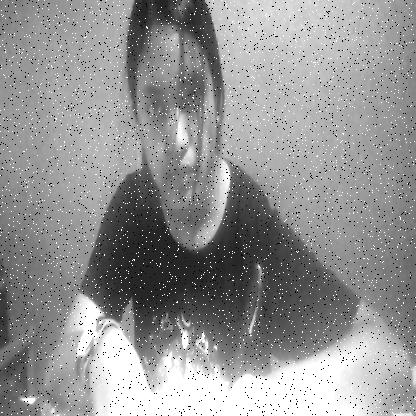Normal: (137, 25, 217, 209)
